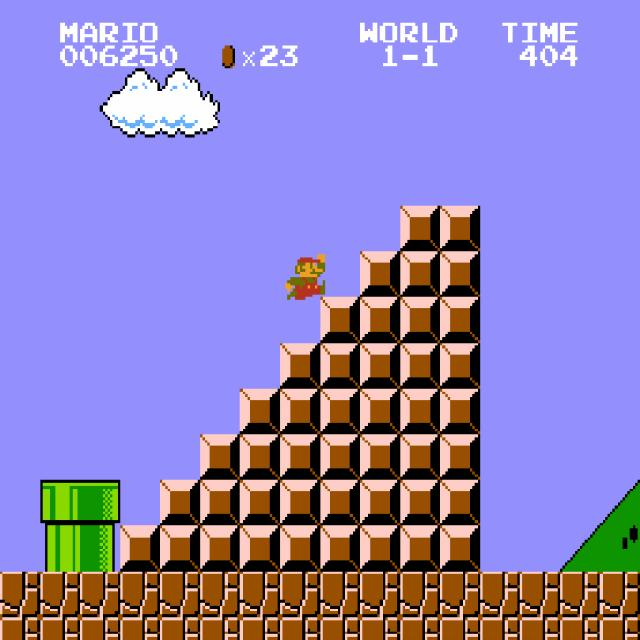hard_block: (160, 480, 200, 526), (200, 434, 240, 480), (200, 480, 240, 526), (240, 434, 280, 480), (240, 480, 280, 526), (280, 434, 320, 480), (280, 480, 320, 526), (320, 297, 360, 343), (320, 434, 360, 480), (320, 480, 360, 526), (360, 297, 400, 343), (360, 434, 400, 480), (360, 480, 400, 526), (400, 297, 440, 343), (400, 434, 440, 480), (400, 480, 440, 526), (440, 297, 480, 343), (440, 434, 480, 480), (440, 480, 480, 526), (120, 526, 160, 571), (160, 526, 200, 571), (200, 526, 240, 571), (240, 389, 280, 434), (240, 526, 280, 571), (280, 343, 320, 388), (280, 389, 320, 434), (280, 526, 320, 571), (320, 343, 360, 388), (320, 389, 360, 434), (320, 526, 360, 571), (360, 252, 400, 297), (360, 343, 400, 388), (360, 389, 400, 434), (360, 526, 400, 571), (400, 206, 440, 251), (400, 252, 440, 297), (400, 343, 440, 388), (400, 389, 440, 434), (400, 526, 440, 571), (440, 206, 480, 251), (440, 252, 480, 297), (440, 343, 480, 388), (440, 389, 480, 434), (440, 526, 480, 571)
little_mario: (283, 251, 325, 300)
pipe: (40, 526, 80, 571), (80, 526, 120, 571)
pipe_head: (40, 480, 80, 526), (80, 480, 120, 526)
undestructible_block: (599, 571, 640, 617), (0, 571, 40, 617), (40, 572, 80, 617), (80, 572, 120, 617), (120, 572, 160, 617), (160, 572, 200, 617), (200, 572, 240, 617), (240, 572, 280, 617), (280, 572, 320, 617), (320, 572, 360, 617), (360, 572, 400, 617), (400, 572, 440, 617), (440, 572, 480, 617), (480, 572, 520, 617), (520, 572, 560, 617), (560, 572, 600, 617), (40, 617, 80, 640), (80, 617, 120, 640), (120, 617, 160, 640), (160, 617, 200, 640), (200, 617, 240, 640), (240, 617, 280, 640), (280, 617, 320, 640), (320, 617, 360, 640), (360, 617, 400, 640), (400, 617, 440, 640), (440, 617, 480, 640), (480, 617, 520, 640), (520, 617, 560, 640), (560, 617, 600, 640), (599, 617, 640, 639), (0, 617, 40, 639)
